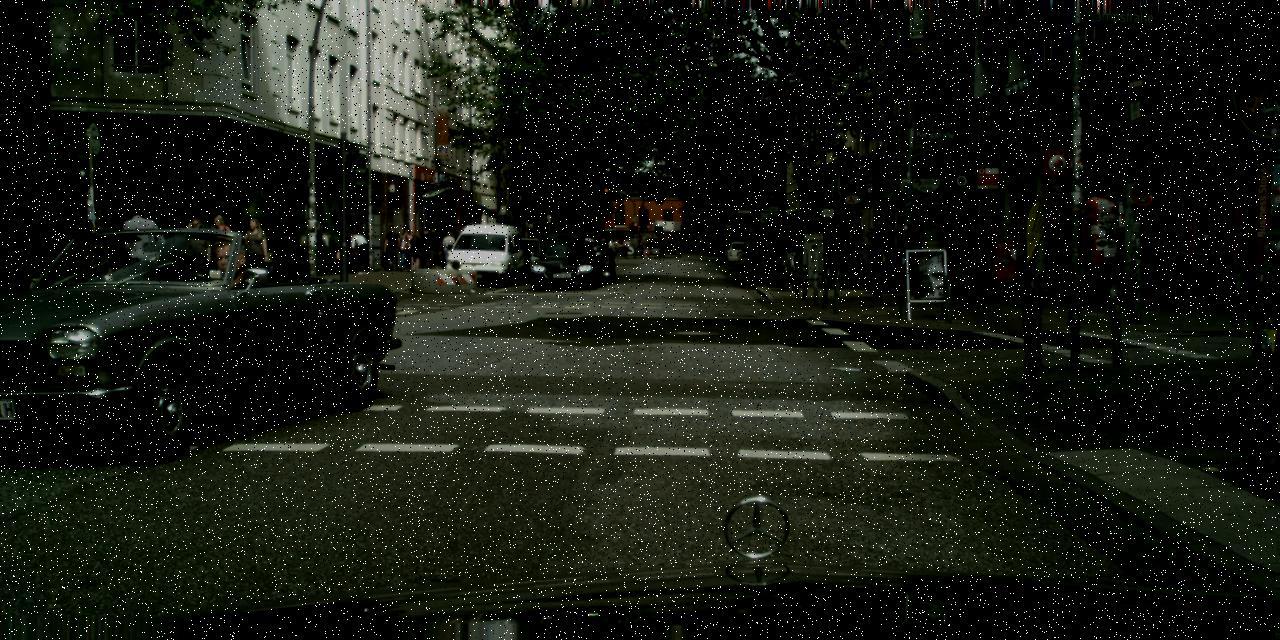ped: (116, 201, 156, 302), (85, 208, 119, 290), (79, 214, 110, 290), (240, 218, 271, 293), (136, 213, 165, 285), (206, 214, 235, 284), (70, 221, 98, 290), (185, 218, 212, 288), (396, 226, 414, 272), (384, 224, 402, 270), (424, 224, 442, 268), (418, 226, 436, 268), (407, 232, 422, 270), (440, 231, 455, 267), (610, 238, 618, 258), (658, 238, 665, 258), (606, 238, 613, 256), (671, 242, 676, 254)
